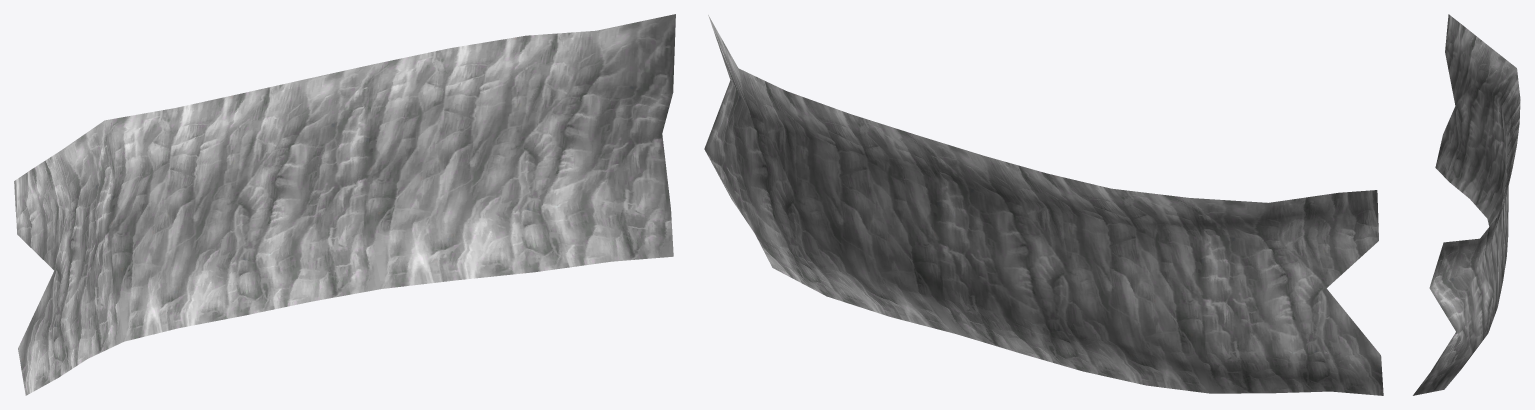
The model's file is SWORDLIGHT20_PS-AREA03_159.fbx.
The picture shows the model from 3 angles, left to right: view 1: azimuth 30°, elevation 25°; view 2: azimuth 150°, elevation 25°; view 3: azimuth 270°, elevation 25°; orthographic projection. The views are drawn at different scales.
Parts seen in each view (by area): view 1: SWORDLIGHT20_PS-AREA03_159; view 2: SWORDLIGHT20_PS-AREA03_159; view 3: SWORDLIGHT20_PS-AREA03_159.
Boxes of the visible parts, left/top/right/bottom form: SWORDLIGHT20_PS-AREA03_159: left=14, top=14, right=675, bottom=395; SWORDLIGHT20_PS-AREA03_159: left=704, top=15, right=1383, bottom=395; SWORDLIGHT20_PS-AREA03_159: left=1413, top=14, right=1520, bottom=395.
Size of the model in its own units: 151487 by 51860 by 29429.
Materials: 1 (1 with a texture image).
